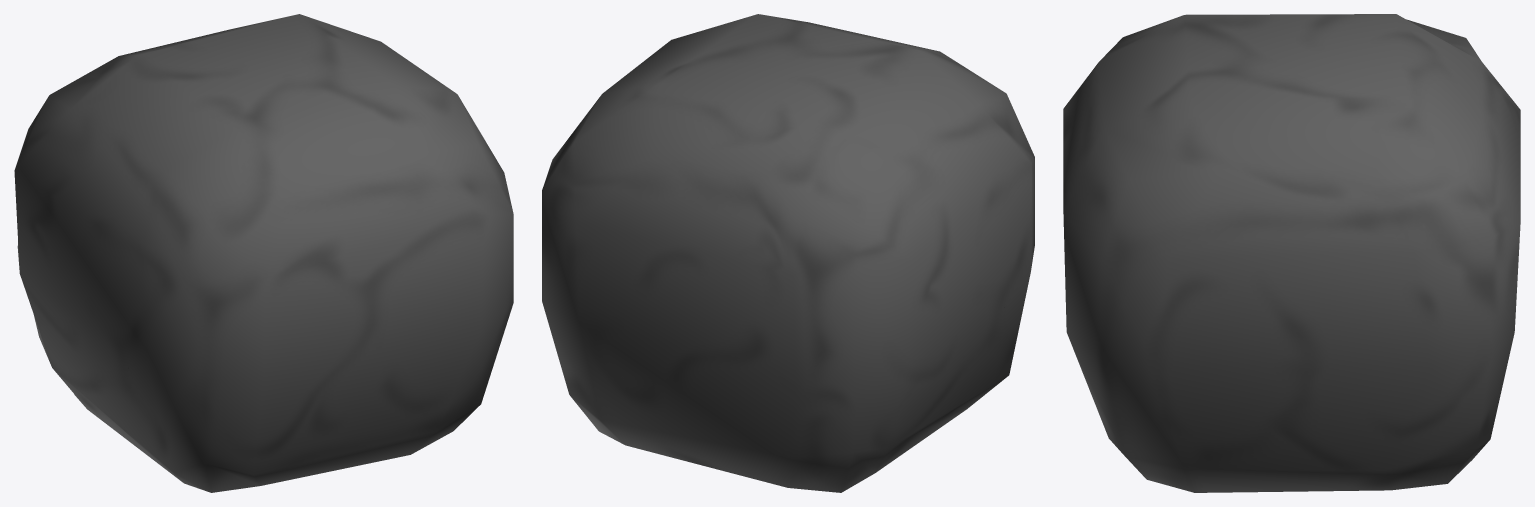
Rendered from Rock_02.fbx.
3 views of the same model, side by side, from view 1: azimuth 30°, elevation 25°; view 2: azimuth 150°, elevation 25°; view 3: azimuth 270°, elevation 25° (orthographic). The views are drawn at different scales.
Visible parts, largest first — view 1: Cube; view 2: Cube; view 3: Cube.
Part boxes in pixels (x1,y1,x2,y2): Cube: [14, 14, 513, 492]; Cube: [542, 14, 1034, 492]; Cube: [1063, 14, 1520, 492].
Size of the model in its own units: 236 by 221 by 236.
1 material, 1 textured.
